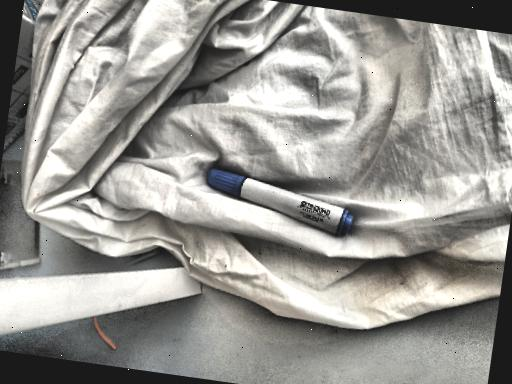marcador azul: (207, 168, 352, 235)
